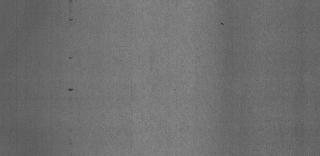oil spot: (68, 0, 74, 26), (66, 86, 74, 96), (67, 52, 73, 60)
